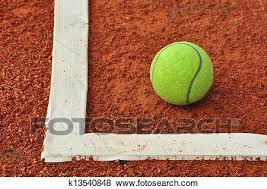tennis_ball: (149, 40, 214, 107)
